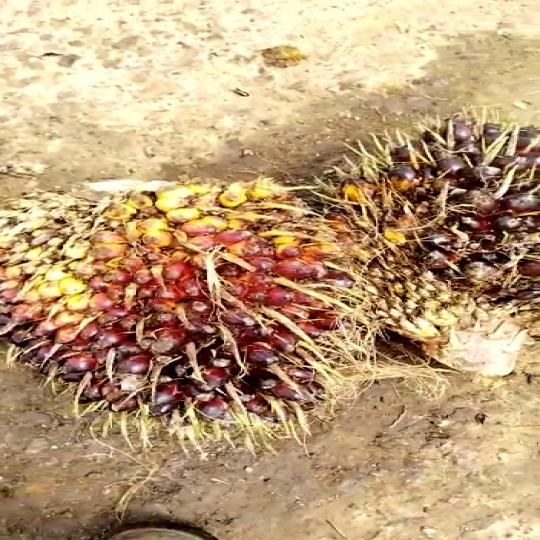kurang masak: (1, 171, 399, 431), (295, 107, 540, 376)
